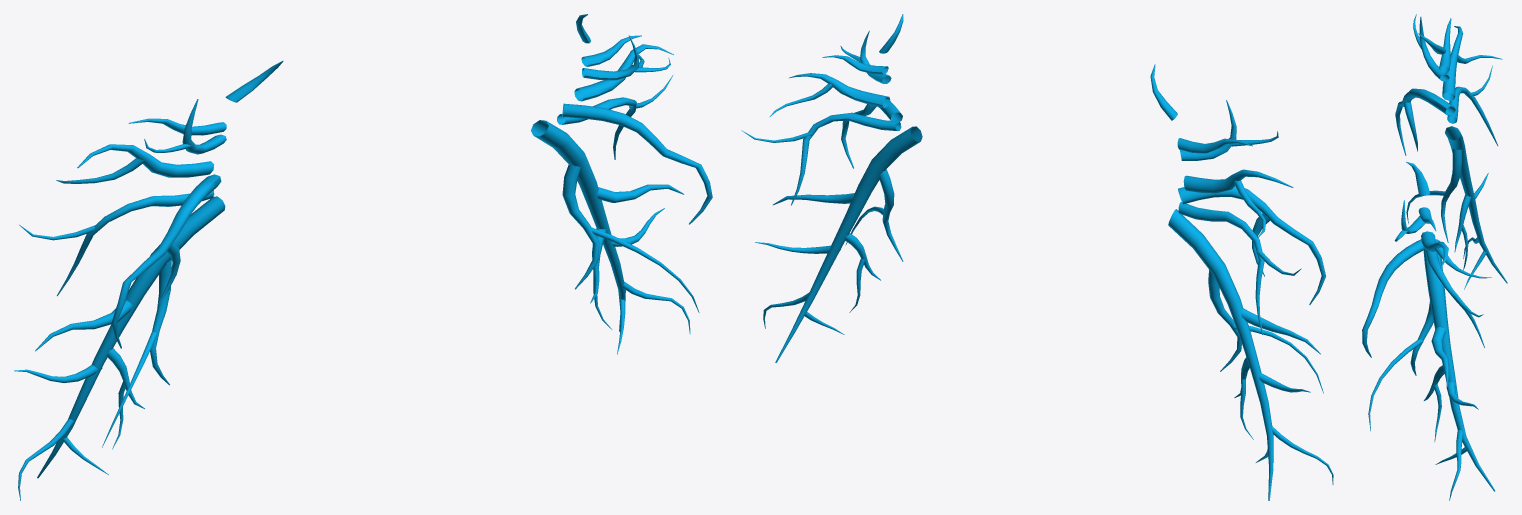
File: Pulmonary_Veins.fbx
3 views of the same model, side by side, from view 1: azimuth 30°, elevation 25°; view 2: azimuth 150°, elevation 25°; view 3: azimuth 270°, elevation 25° (orthographic). The views are drawn at different scales.
Visible parts, largest first — view 1: Pulmonary_Veins; view 2: Pulmonary_Veins; view 3: Pulmonary_Veins.
Part boxes in pixels (x1,y1,x2,y2): Pulmonary_Veins: (14,14,712,500); Pulmonary_Veins: (741,14,1333,500); Pulmonary_Veins: (1362,14,1507,500).
Bounding box in the file's own units: 24.2 × 14.33 × 5.89.
